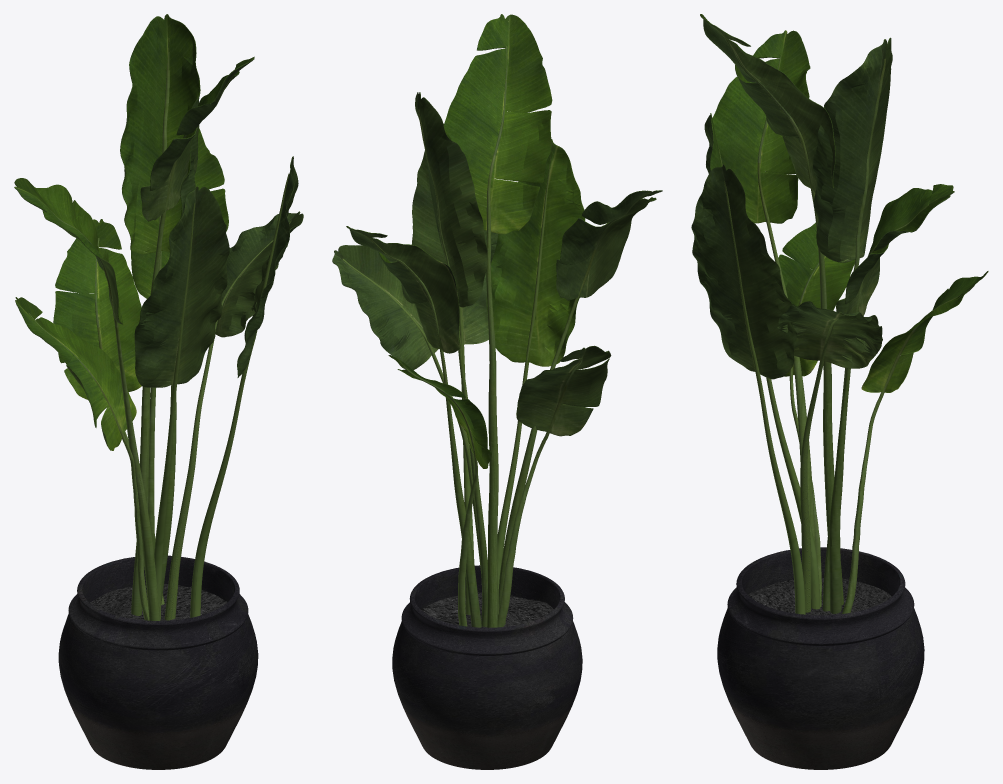
Rendered from Planta4.glb.
3 renders of one model, left to right at view 1: azimuth 30°, elevation 25°; view 2: azimuth 150°, elevation 25°; view 3: azimuth 270°, elevation 25°, orthographic. The views are drawn at different scales.
Parts seen in each view (by area): view 1: Planta4; view 2: Planta4; view 3: Planta4.
Boxes of the visible parts, x1=… form: Planta4: x1=14, y1=14, x2=303, y2=769; Planta4: x1=332, y1=14, x2=662, y2=769; Planta4: x1=691, y1=14, x2=988, y2=769.
Size of the model in its own units: 0.988 by 2.16 by 0.785.
Materials: 5 (5 with a texture image).
